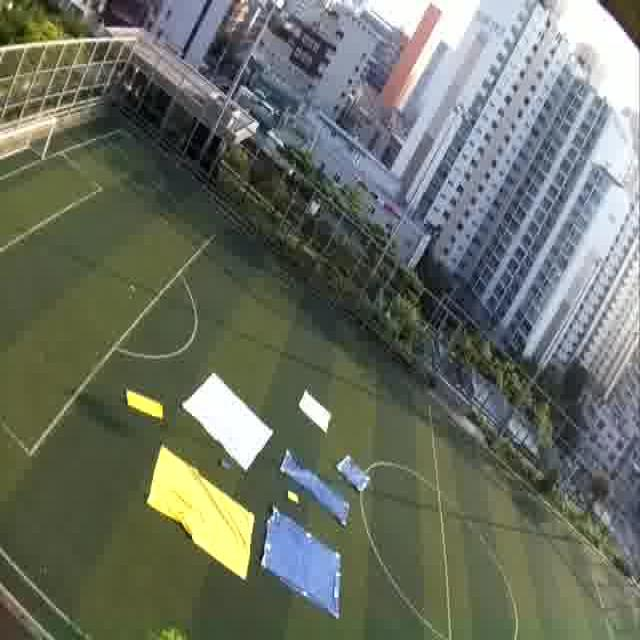danger: (268, 534, 340, 608), (283, 455, 323, 487), (340, 458, 375, 492)
safety: (194, 389, 272, 458), (297, 390, 331, 430)
warning: (152, 485, 247, 552), (123, 384, 168, 426)
